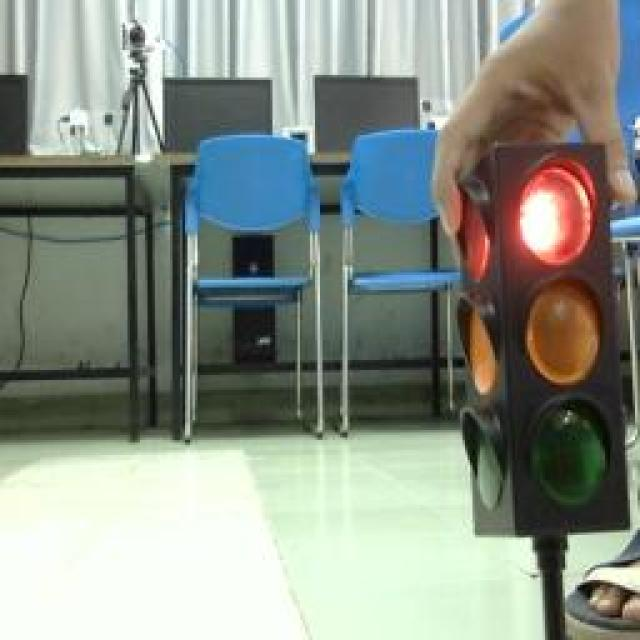-: (514, 151, 604, 266)
